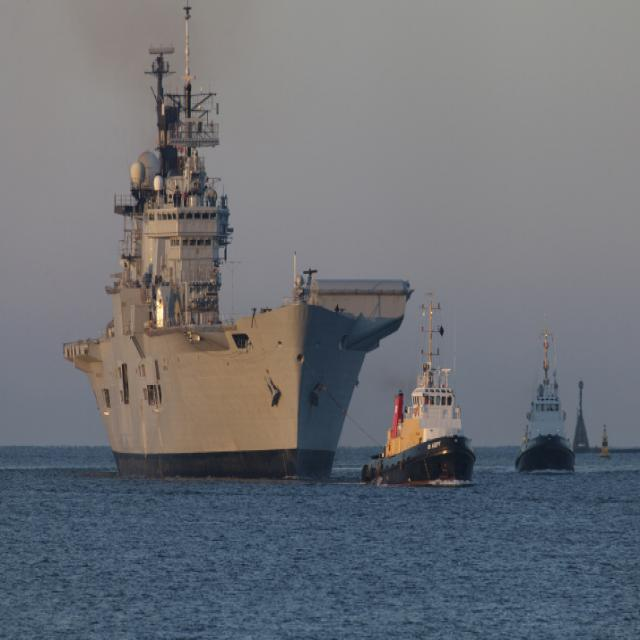Portanaves: (61, 1, 414, 485)
